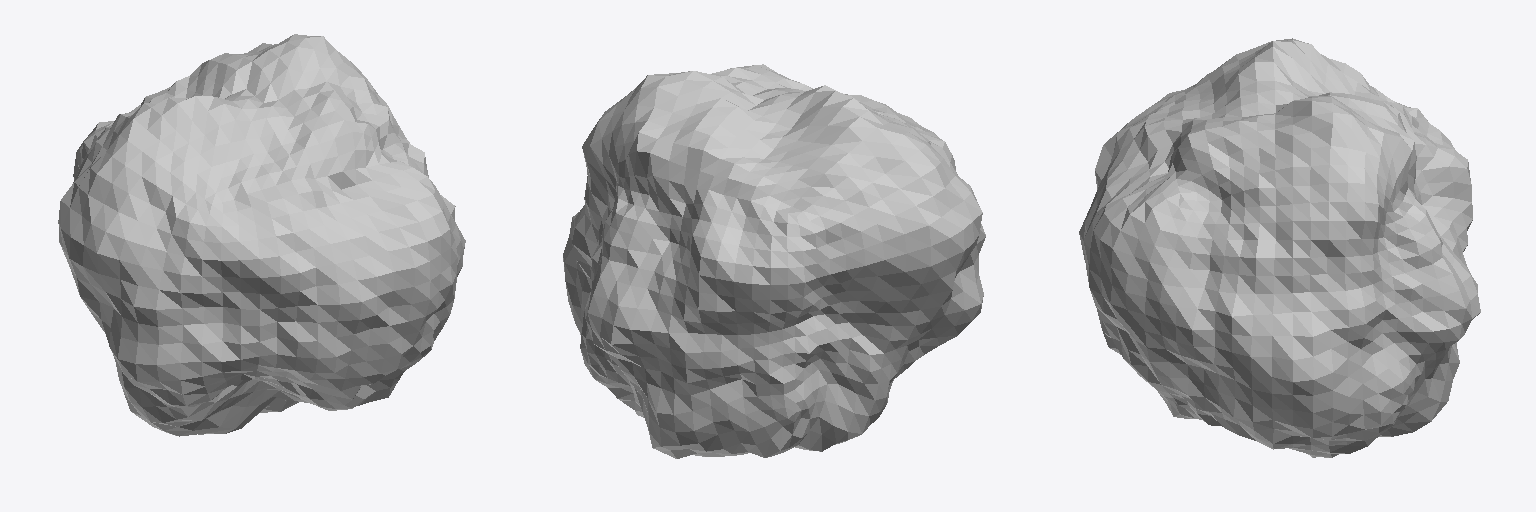
The model's file is asteroid2_1.obj.
3 views of the same model, side by side, from view 1: azimuth 30°, elevation 25°; view 2: azimuth 150°, elevation 25°; view 3: azimuth 270°, elevation 25° (orthographic).
Parts seen in each view (by area): view 1: Cube_Cube.001; view 2: Cube_Cube.001; view 3: Cube_Cube.001.
Part boxes in pixels (left/top/right/bottom): Cube_Cube.001: left=58, top=34, right=465, bottom=436; Cube_Cube.001: left=563, top=64, right=985, bottom=458; Cube_Cube.001: left=1079, top=38, right=1480, bottom=457.
Size of the model in its own units: 2.91 by 2.66 by 2.65.